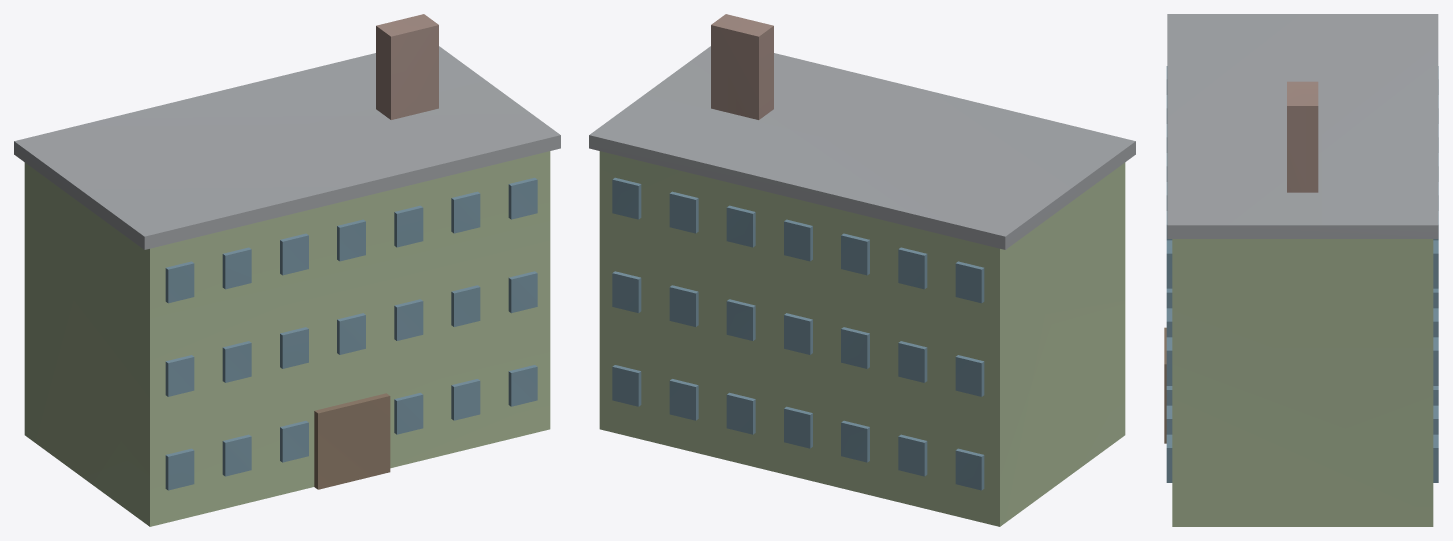
File: factory-01.glb
3 renders of one model, left to right at view 1: azimuth 30°, elevation 25°; view 2: azimuth 150°, elevation 25°; view 3: azimuth 270°, elevation 25°, orthographic. The views are drawn at different scales.
Visible parts, largest first — view 1: world; view 2: world; view 3: world.
Boxes of the visible parts, x1,y1,x2,y2 form: world: (14,14,560,526); world: (589,14,1135,526); world: (1164,14,1438,526).
Bounding box in the file's own units: 2.28 × 1.98 × 1.25.
